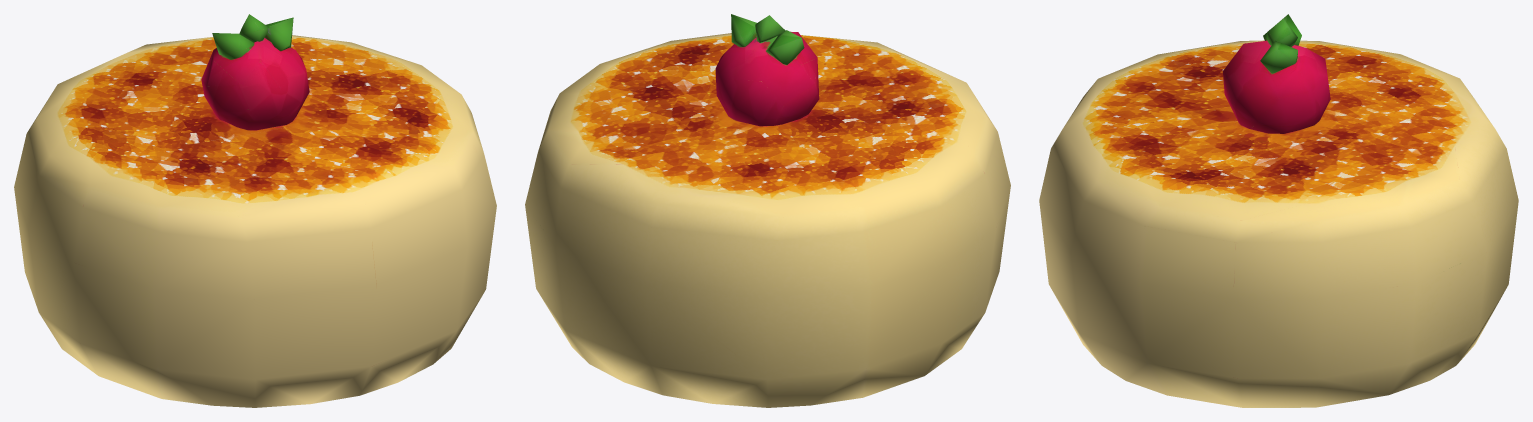
Rendered from source.fbx.
3 views of the same model, side by side, from view 1: azimuth 30°, elevation 25°; view 2: azimuth 150°, elevation 25°; view 3: azimuth 270°, elevation 25° (orthographic).
Visible parts, largest first — view 1: Mesh_0; view 2: Mesh_0; view 3: Mesh_0.
Boxes of the visible parts, x1,y1,x2,y2 form: Mesh_0: (14,14,496,407); Mesh_0: (525,14,1010,407); Mesh_0: (1039,14,1518,407).
Bounding box in the file's own units: 25.12 × 18 × 25.8.
1 material, 1 textured.
